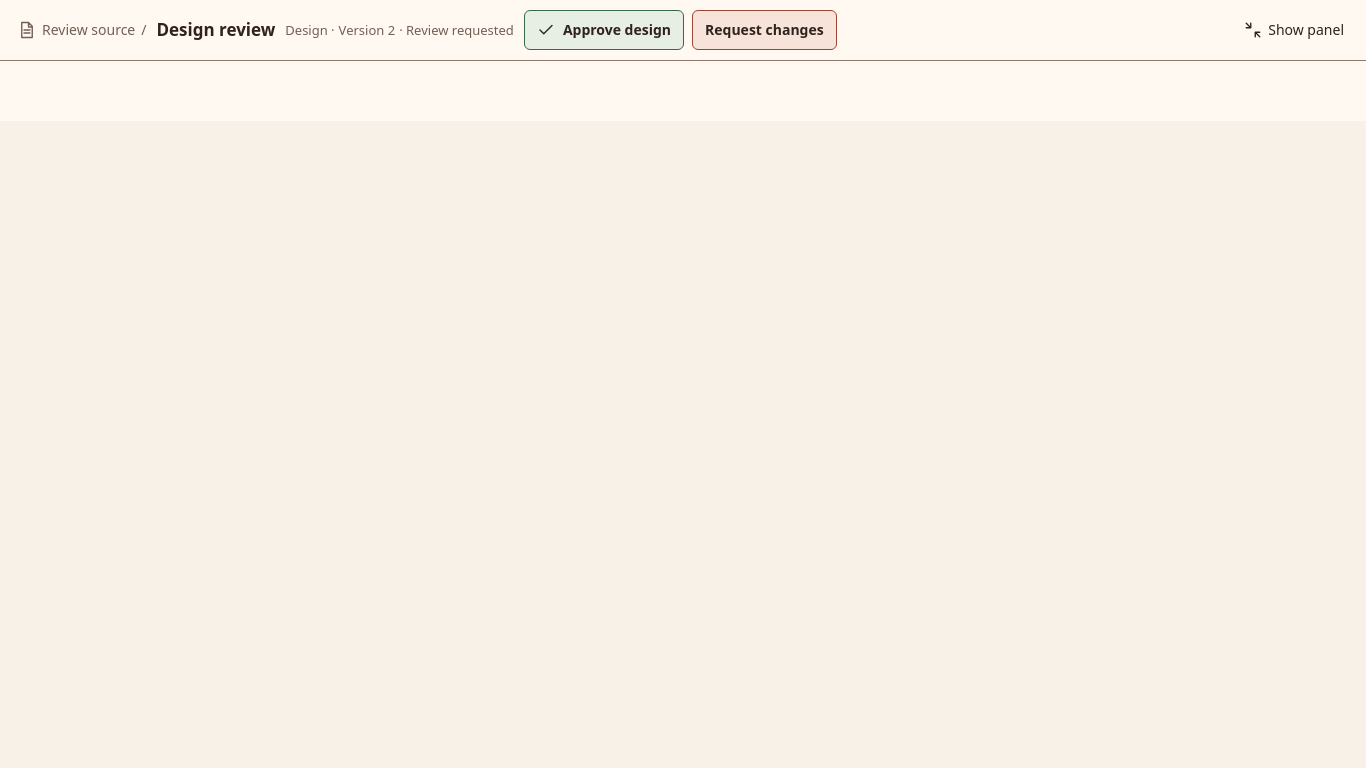
Test: source-bound design review › S19: one header per revision3-clean-review.png — the review panel sits beside the document; Cancel clears the feedback
This screenshot has width=1366, height=768.
expect the element with test id "review-state" reads "Design · Version 2 · Review requested": met, box [285,20,514,40]
expect the link with aria-label "Back to source: Review source" is shown: met, box [42,18,135,42]
Click the button with test id "review-reader-toggle". click: coordinates (1294, 30)
box: [1236,12,1352,48]
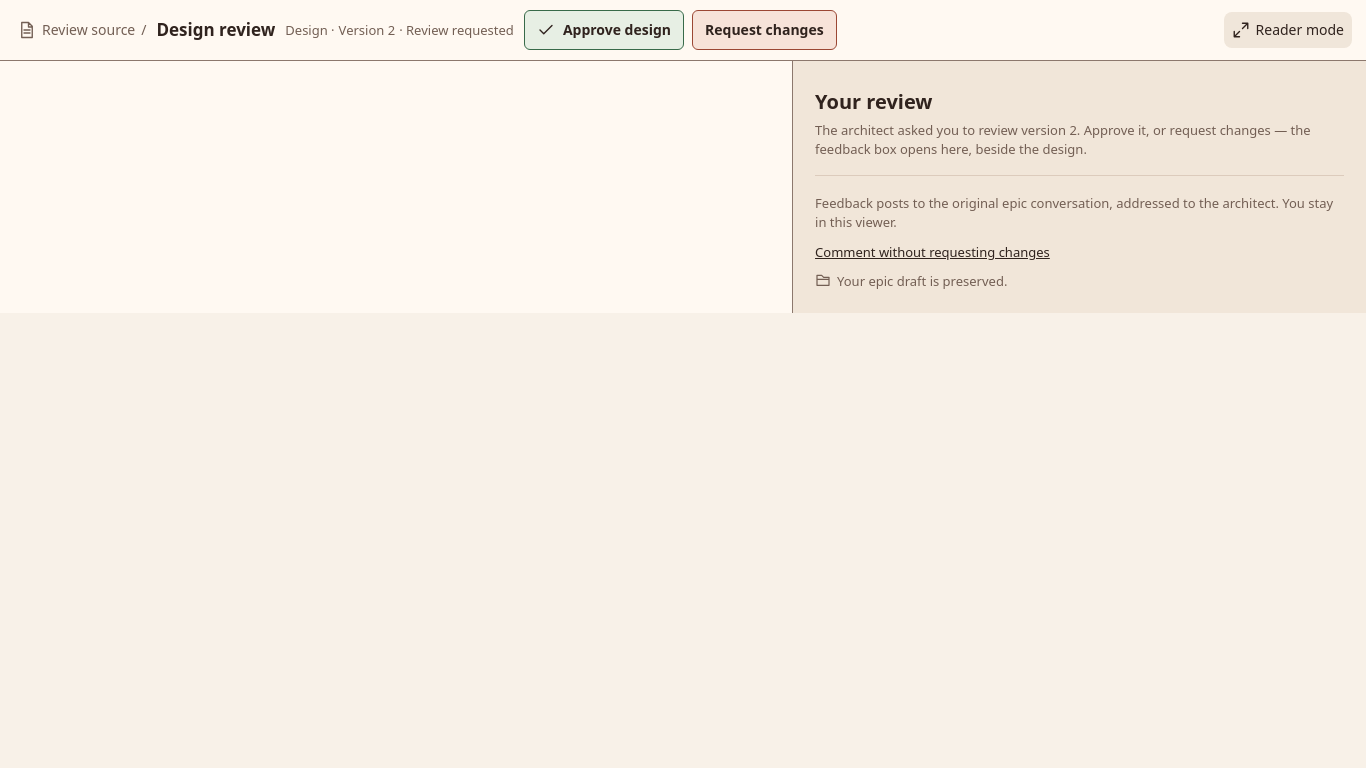
expect the number of buttons "Comment without requesting changes" is 1: met, box [815,240,1050,264]
expect the element "Your review" is shown: met, box [792,61,1365,313]
Click the button "Request changes". click: coordinates (764, 30)
box: [692,10,837,50]
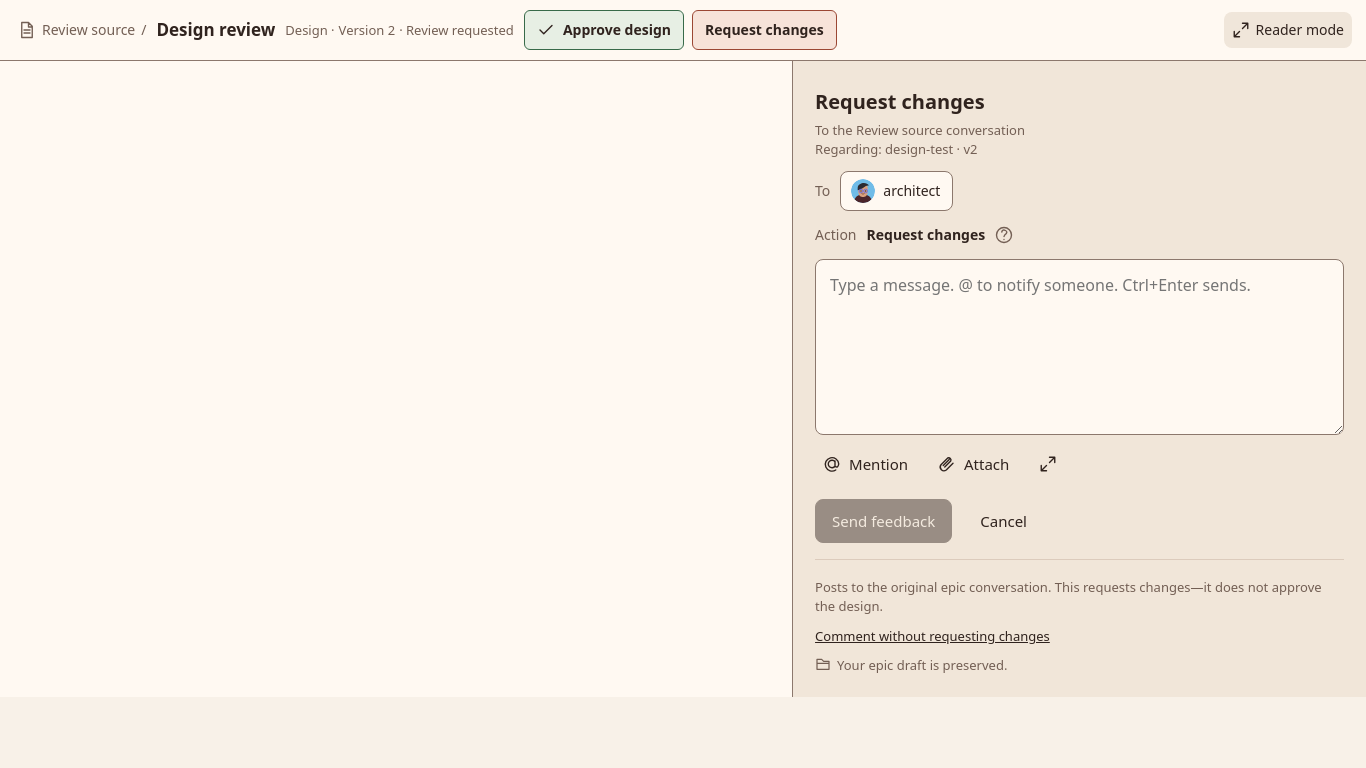
expect the element "Request changes" shows "Regarding: design-test · v2": met, box [792,61,1365,697]
Type "Clarify the retry" into the text box. click: coordinates (1079, 347)
box: [815,259,1344,435]
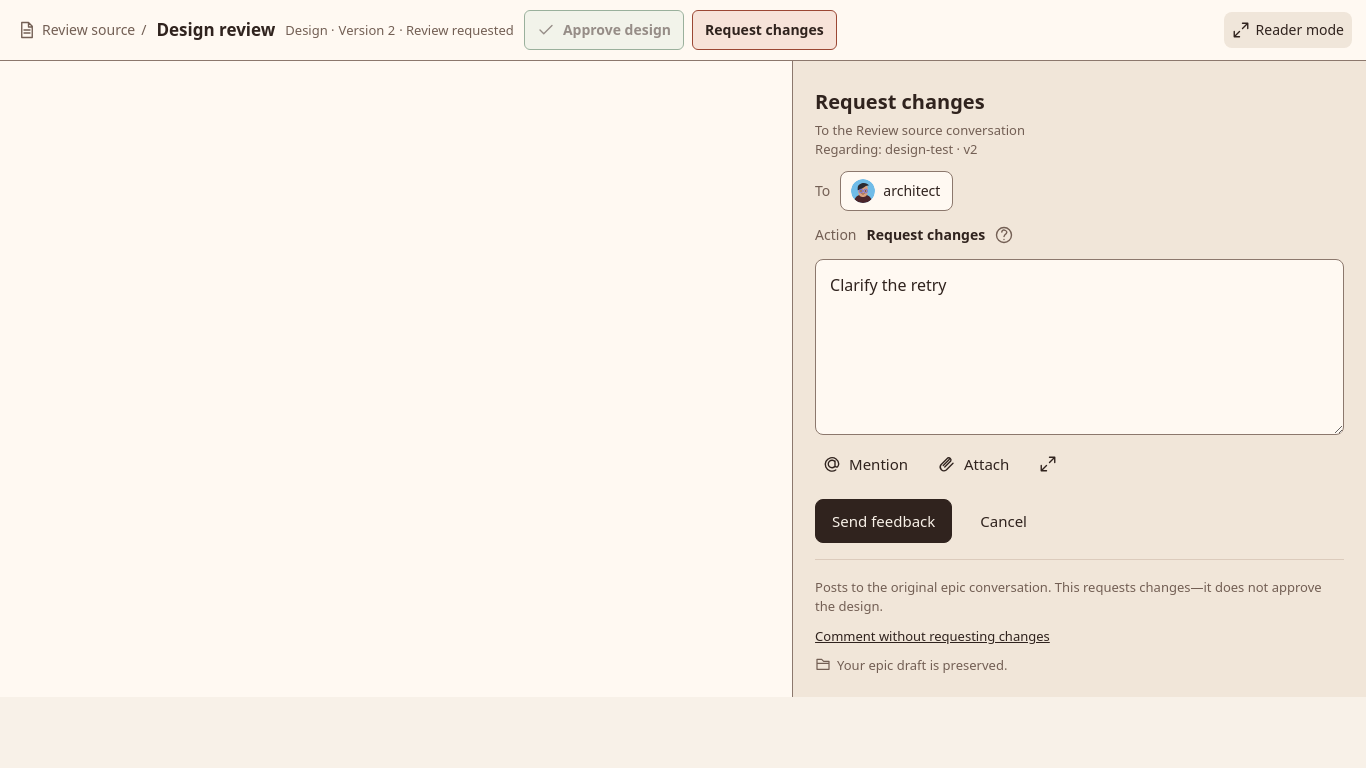
expect the button "Send feedback" is enabled: met, box [815,499,952,543]
Click the button "Cancel". click: coordinates (1004, 521)
box: [972,499,1035,543]
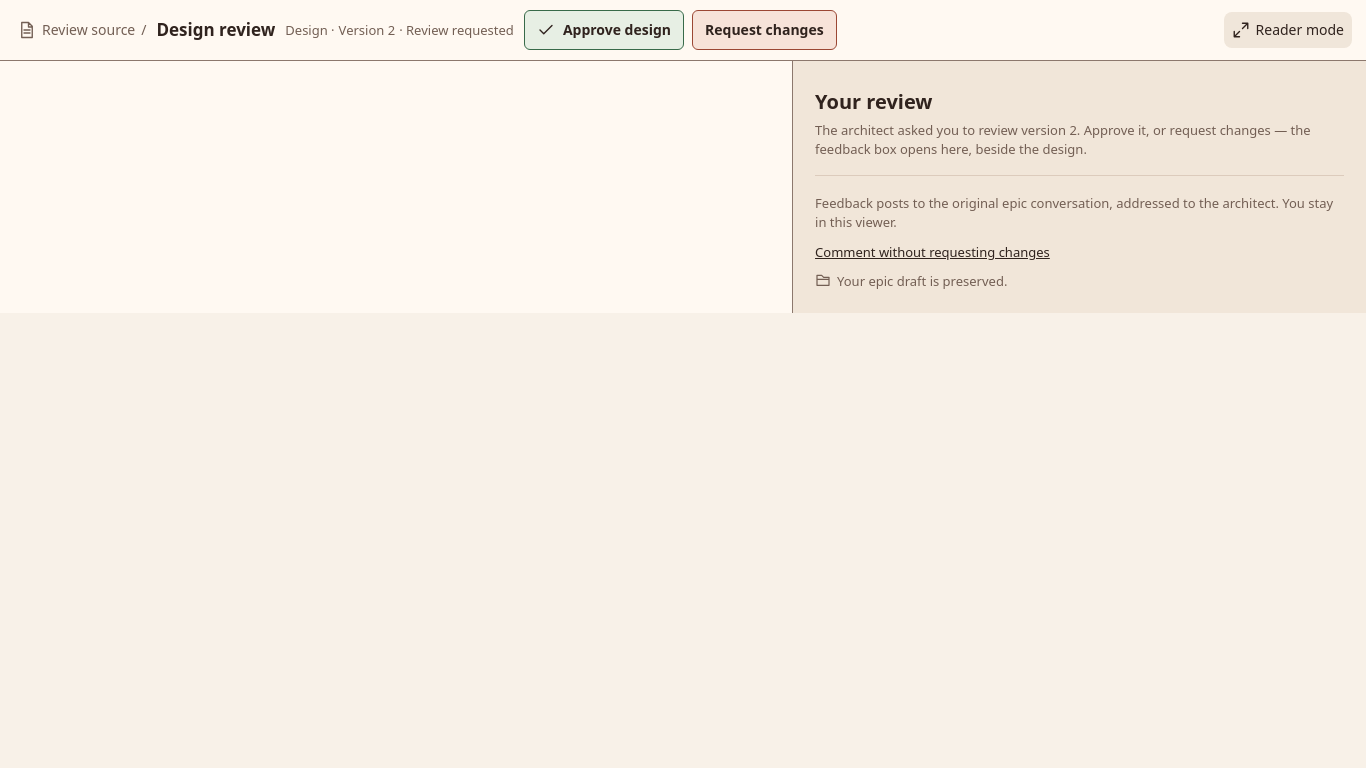
expect the button "Approve design" is enabled: met, box [524,10,684,50]
